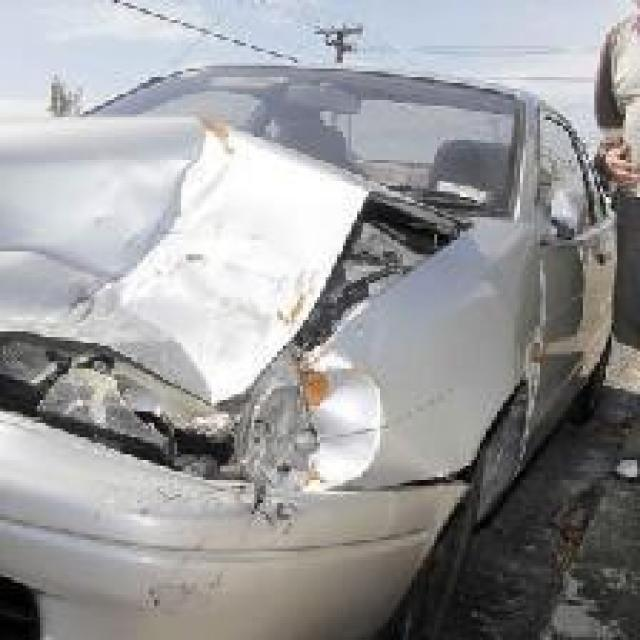damaged: (0, 120, 474, 617)
